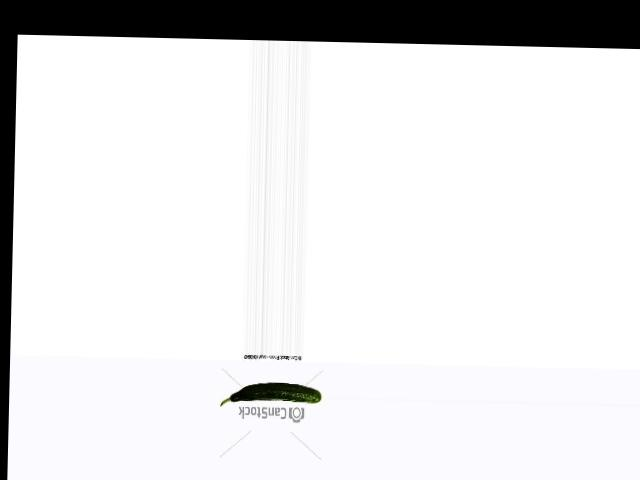cucumber: (219, 381, 320, 407)
